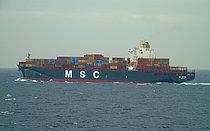Ship: (13, 41, 198, 87)
